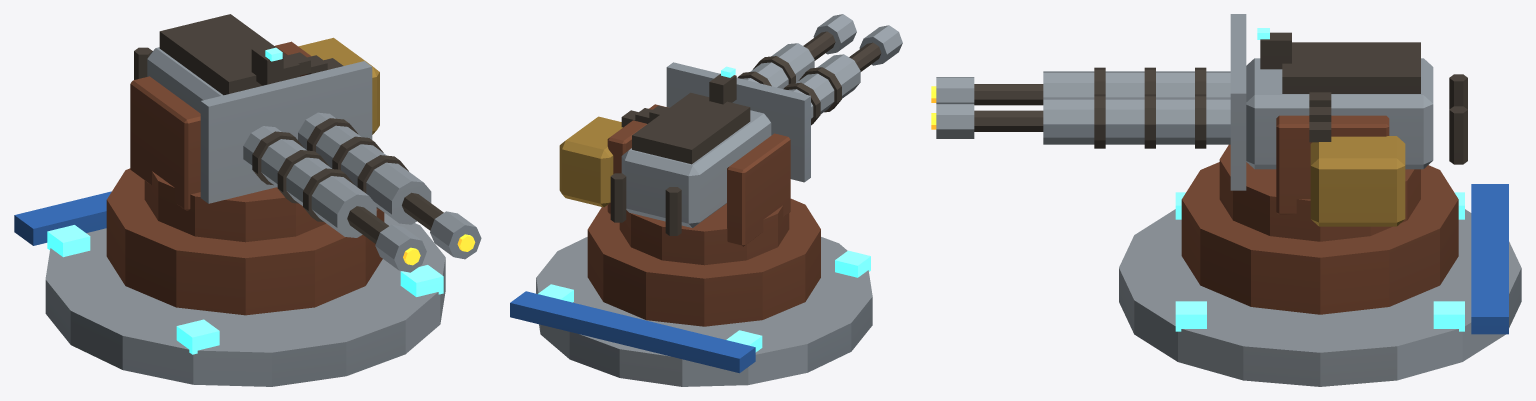
File: zw_mitrailleuse.glb
3 views of the same model, side by side, from view 1: azimuth 30°, elevation 25°; view 2: azimuth 150°, elevation 25°; view 3: azimuth 270°, elevation 25° (orthographic). The views are drawn at different scales.
Visible parts, largest first — view 1: zw_mitrailleuse; view 2: zw_mitrailleuse; view 3: zw_mitrailleuse.
Boxes of the visible parts, box(x1,y1,x2,y2) form: zw_mitrailleuse: box(14, 14, 481, 386); zw_mitrailleuse: box(510, 14, 902, 386); zw_mitrailleuse: box(931, 14, 1521, 386).
Bounding box in the file's own units: 0.64 × 0.476 × 0.938.
